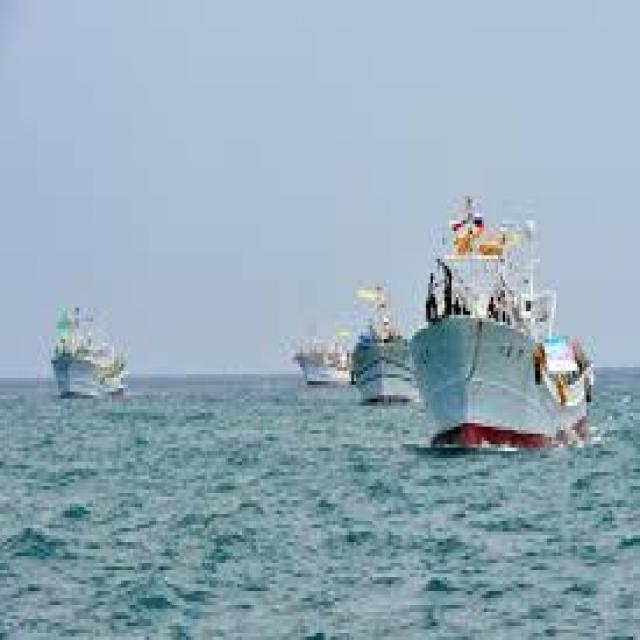Ship: (411, 197, 614, 473), (341, 267, 429, 414), (32, 288, 132, 411)
